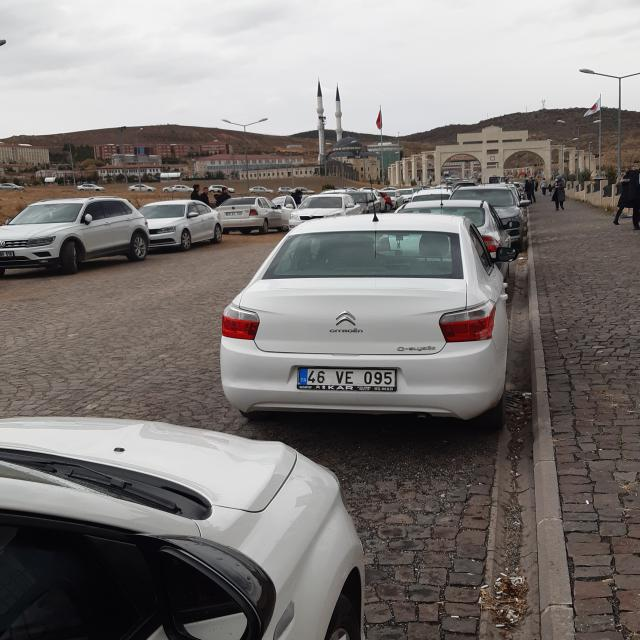plate: (299, 366, 398, 388)
